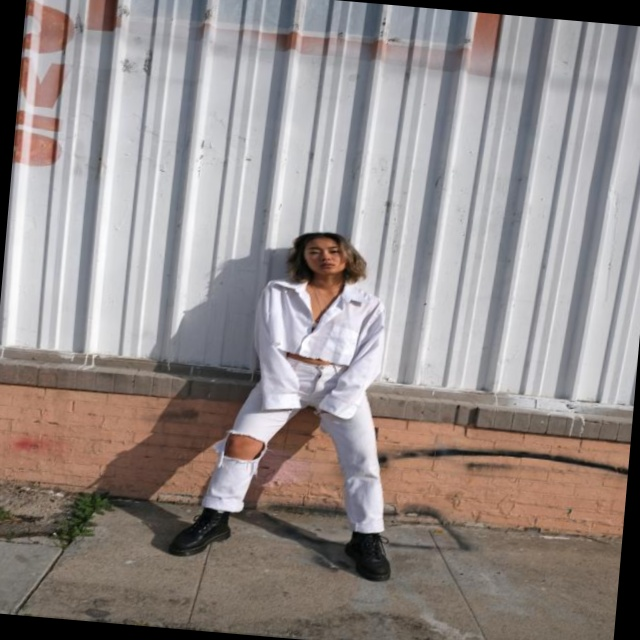low_neckline: (280, 276, 360, 369)
ripped_pants: (199, 353, 403, 533)
